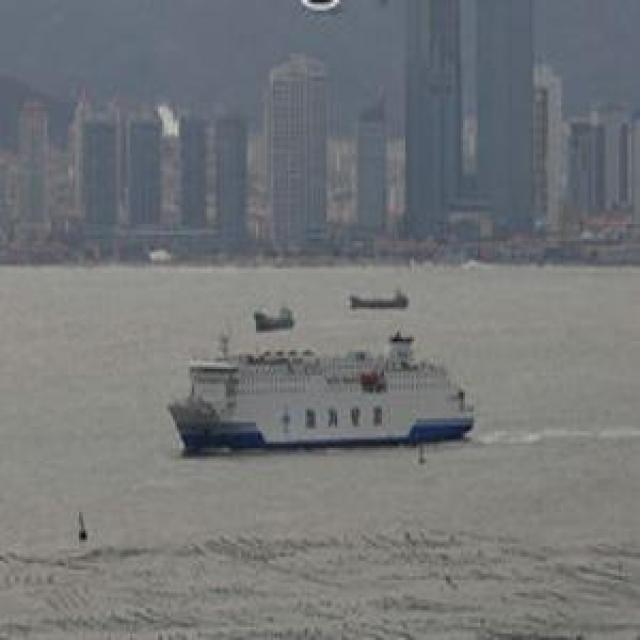cargoship: (343, 286, 416, 312), (246, 303, 295, 333)
passenger ship: (167, 332, 474, 453)
